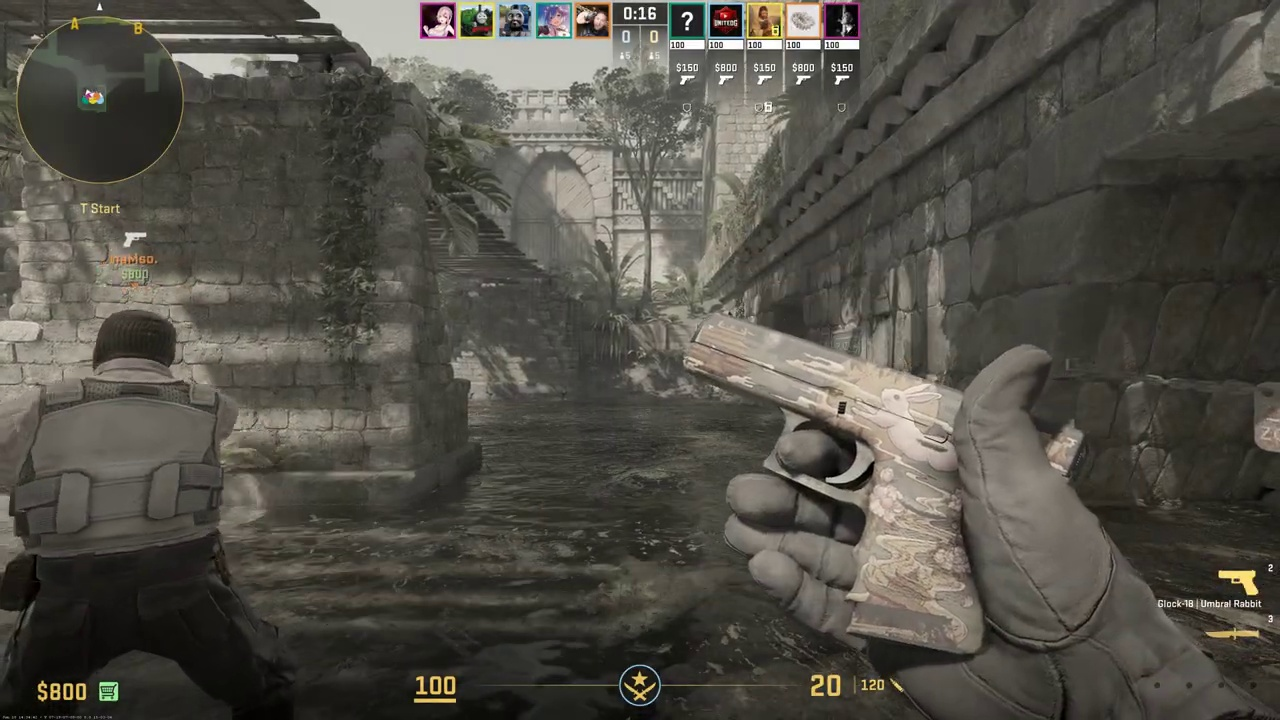Terrorist: (0, 309, 285, 720)
